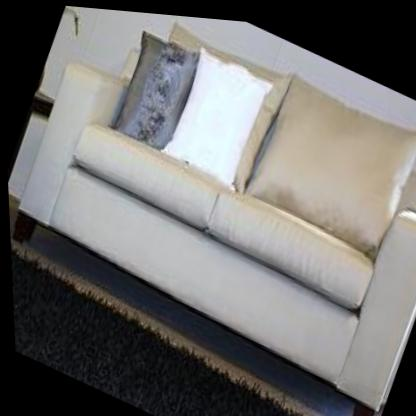Carpet: (9, 251, 305, 416)
Sofa: (0, 0, 416, 416)
